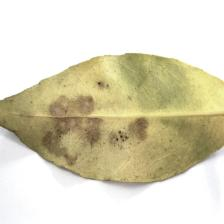black spot: (34, 84, 157, 160)
